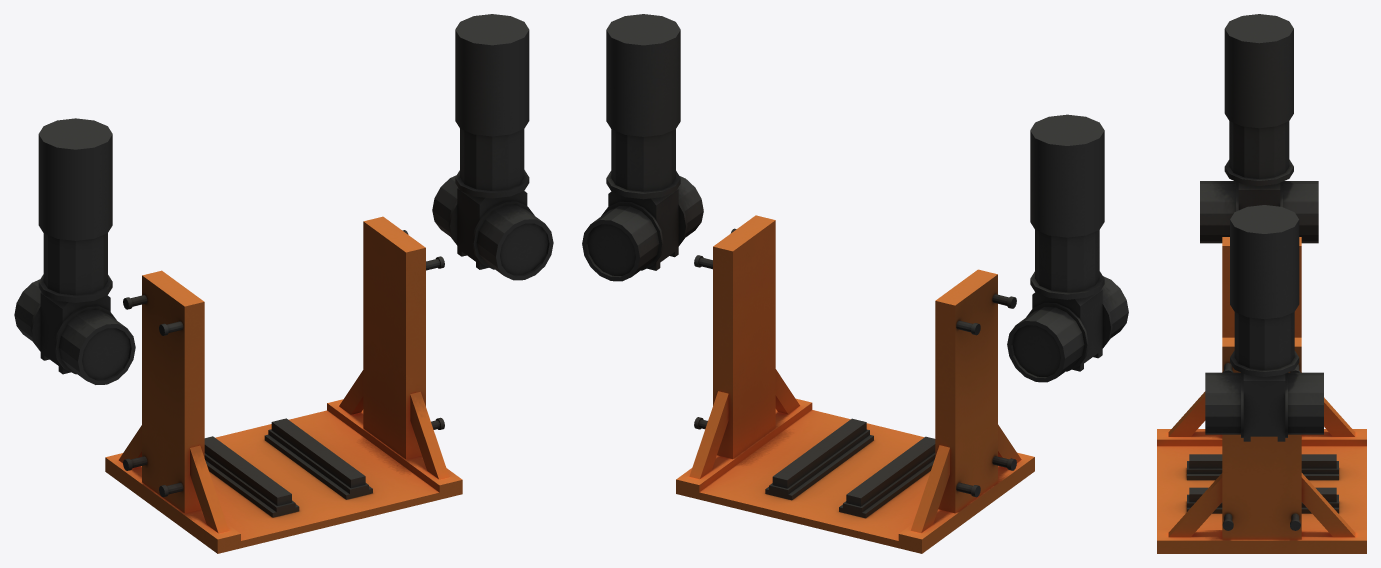
Rendered from forklift.serva.3525.obj.
3 renders of one model, left to right at view 1: azimuth 30°, elevation 25°; view 2: azimuth 150°, elevation 25°; view 3: azimuth 270°, elevation 25°, orthographic. The views are drawn at different scales.
Visible parts, largest first — view 1: Box03; view 2: Box03; view 3: Box03.
Part boxes in pixels (x1,y1,x2,y2): Box03: [14, 14, 553, 553]; Box03: [582, 14, 1128, 553]; Box03: [1157, 14, 1366, 553].
Bounding box in the file's own units: 377 × 298 × 152.
